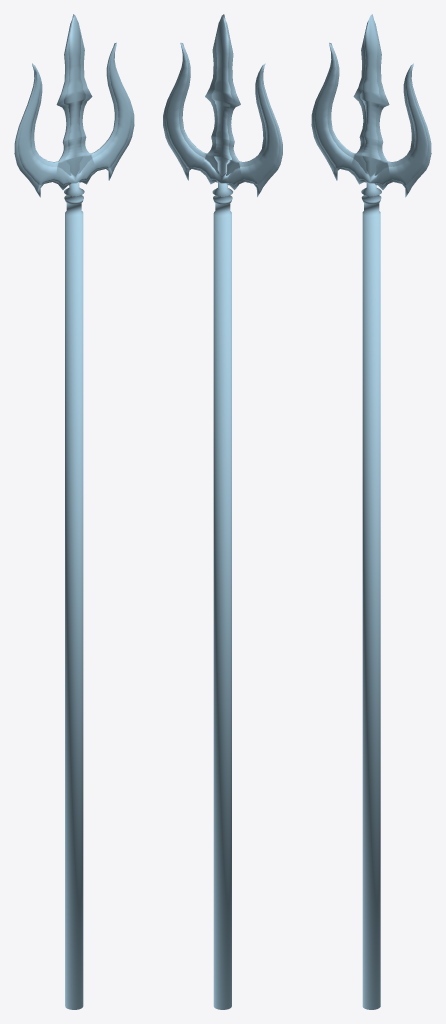
Rendered from Poseidón_Arma_Deff.fbx.
The picture shows the model from 3 angles, left to right: view 1: azimuth 30°, elevation 25°; view 2: azimuth 150°, elevation 25°; view 3: azimuth 330°, elevation 25°; orthographic projection.
Visible parts, largest first — view 1: Trident; view 2: Trident; view 3: Trident.
Boxes of the visible parts, left/top/right/bottom form: Trident: left=14, top=14, right=134, bottom=1009; Trident: left=163, top=14, right=282, bottom=1009; Trident: left=311, top=14, right=431, bottom=1009.
Size of the model in its own units: 55.84 by 444 by 8.42.
